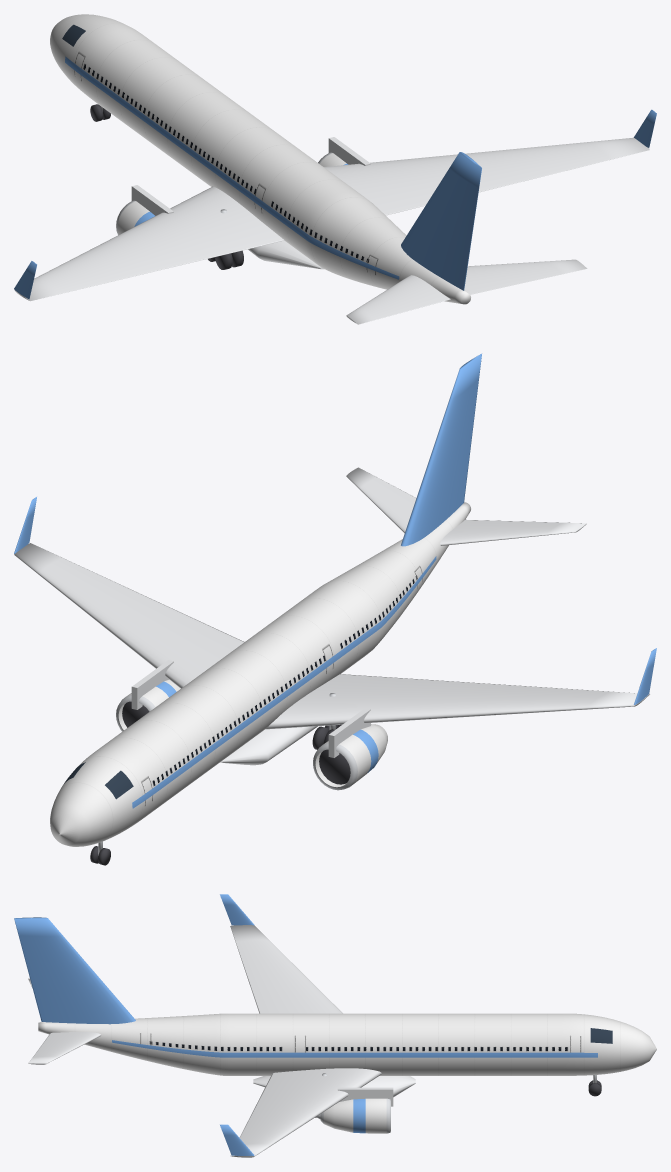
File: airliner.glb
The picture shows the model from 3 angles, top to bottom: view 1: azimuth 30°, elevation 25°; view 2: azimuth 150°, elevation 25°; view 3: azimuth 270°, elevation 25°; orthographic projection. The views are drawn at different scales.
Parts seen in each view (by area): view 1: Airliner; view 2: Airliner; view 3: Airliner.
Part boxes in pixels (x1,y1,x2,y2): Airliner: [14, 14, 656, 324]; Airliner: [14, 353, 656, 865]; Airliner: [14, 894, 656, 1157].
Size of the model in its own units: 35.4 by 12.64 by 41.58.
6 materials, 1 textured.
